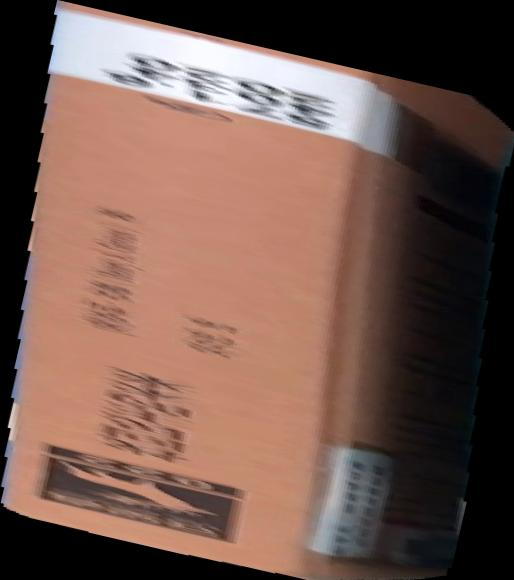reverse: (1, 1, 514, 580)
